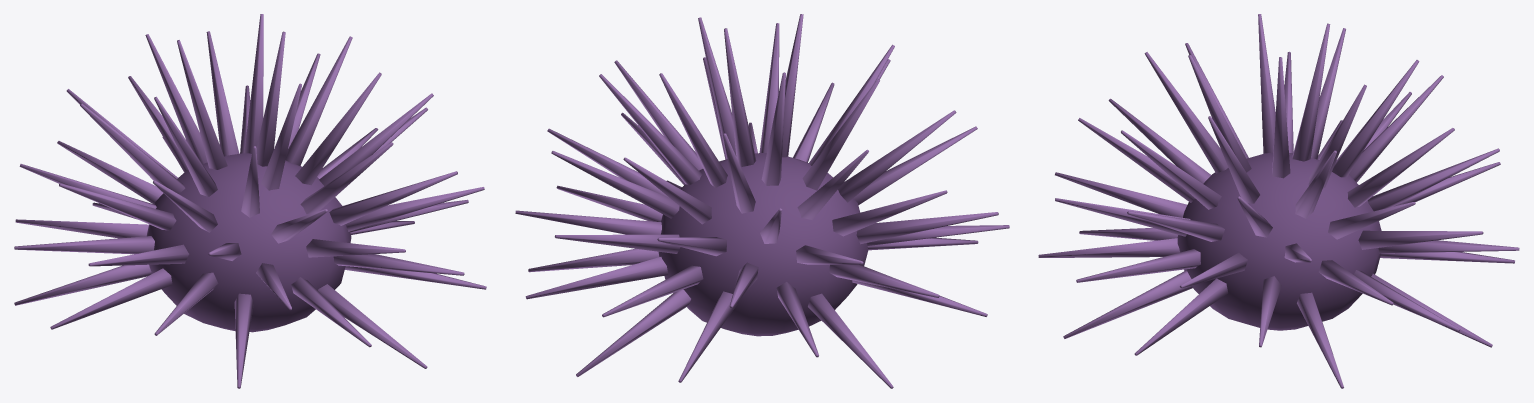
Rendered from urchin.glb.
3 renders of one model, left to right at view 1: azimuth 30°, elevation 25°; view 2: azimuth 150°, elevation 25°; view 3: azimuth 270°, elevation 25°, orthographic. The views are drawn at different scales.
Parts seen in each view (by area): view 1: urchin; view 2: urchin; view 3: urchin.
Part boxes in pixels (x1,y1,x2,y2): urchin: (14, 14, 486, 388); urchin: (515, 14, 1009, 388); urchin: (1038, 14, 1519, 388).
Bounding box in the file's own units: 0.5559 × 0.3565 × 0.5554.
